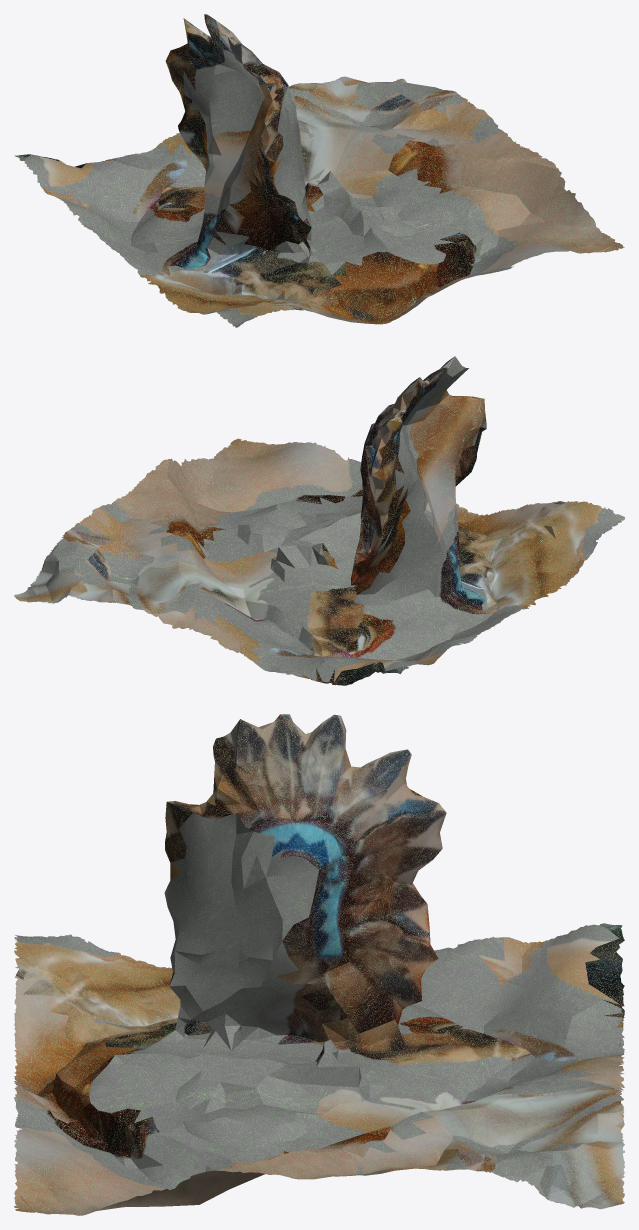
The model's file is cheif.dae.
3 views of the same model, one above another, from view 1: azimuth 30°, elevation 25°; view 2: azimuth 150°, elevation 25°; view 3: azimuth 270°, elevation 25° (orthographic). The views are drawn at different scales.
Parts seen in each view (by area): view 1: SketchUp (×4); view 2: SketchUp (×5); view 3: SketchUp (×5).
Part boxes in pixels (x1,y1,x2,y2): SketchUp (×4): (15, 14, 624, 327); SketchUp (×5): (14, 356, 624, 685); SketchUp (×5): (14, 714, 624, 1215).
Bounding box in the file's own units: 26 × 26 × 15.63.
4 materials, 2 textured.
